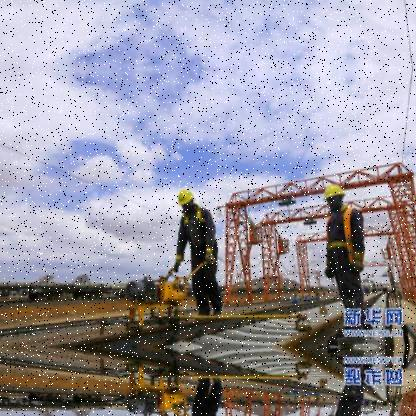Helmet: (170, 185, 200, 213), (319, 184, 351, 210)
